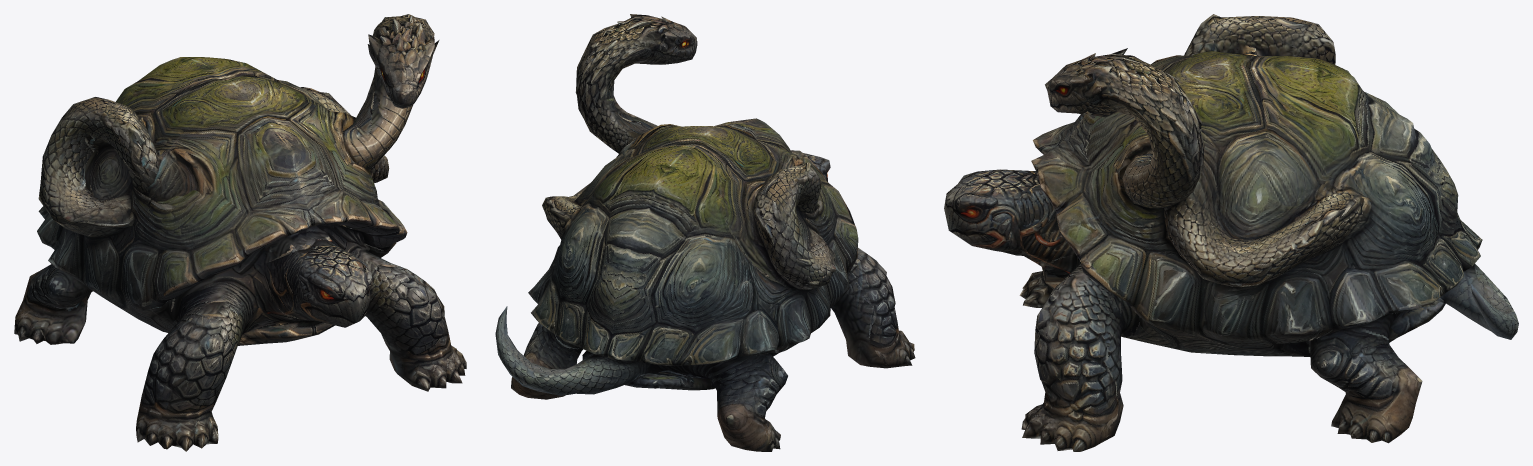
File: BlackTortoise.glb
3 renders of one model, left to right at view 1: azimuth 30°, elevation 25°; view 2: azimuth 150°, elevation 25°; view 3: azimuth 270°, elevation 25°, orthographic. The views are drawn at different scales.
Visible parts, largest first — view 1: texture_mapping; view 2: texture_mapping; view 3: texture_mapping.
Part boxes in pixels (bbox=[...]): texture_mapping: bbox=[14, 14, 466, 451]; texture_mapping: bbox=[495, 14, 915, 451]; texture_mapping: bbox=[944, 14, 1518, 451].
Bounding box in the file's own units: 0.7375 × 0.7162 × 0.9953.
Materials: 1 (1 with a texture image).
